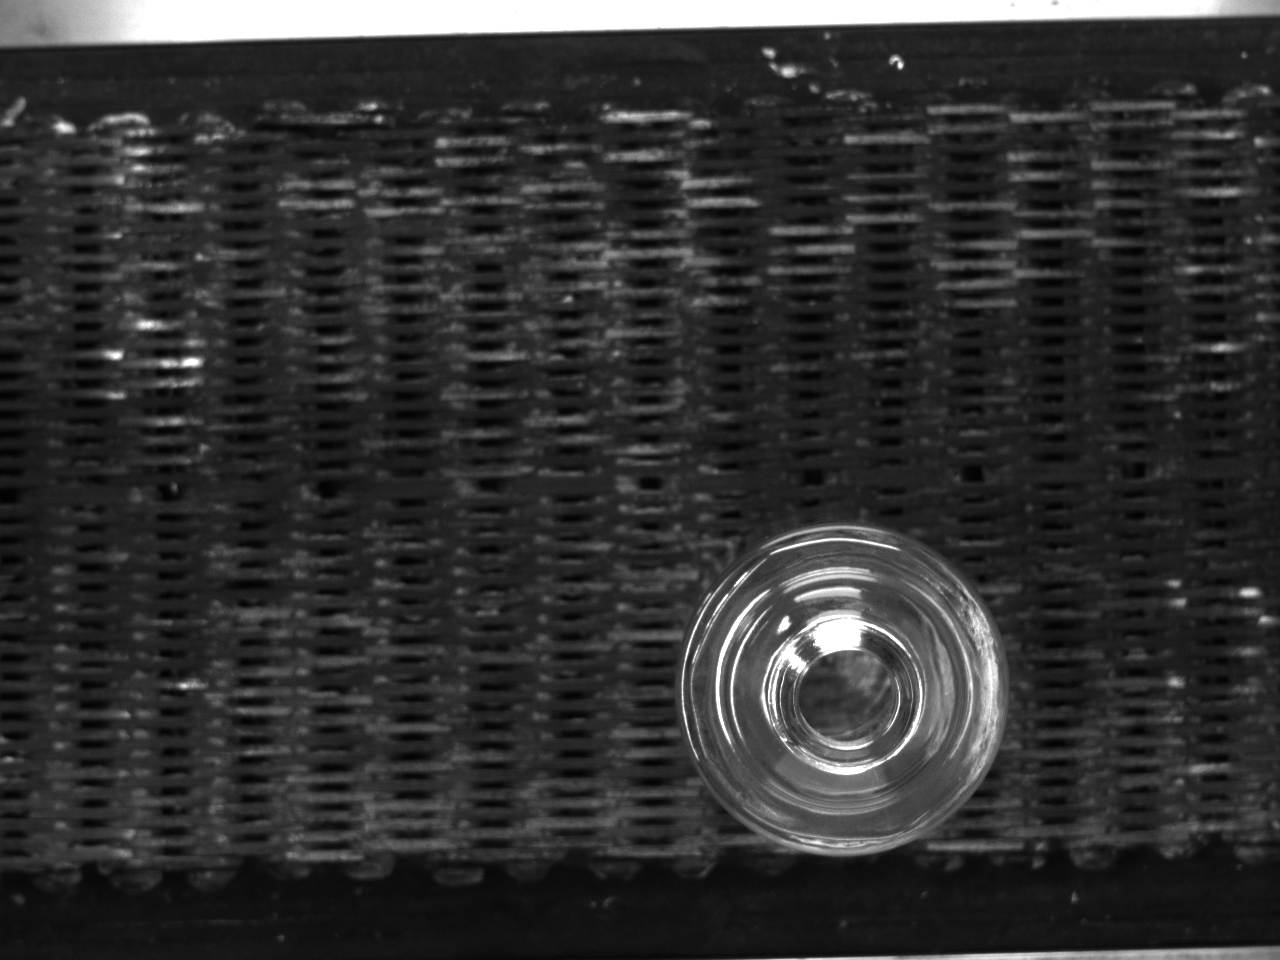bottleneck: (771, 619, 924, 775)
